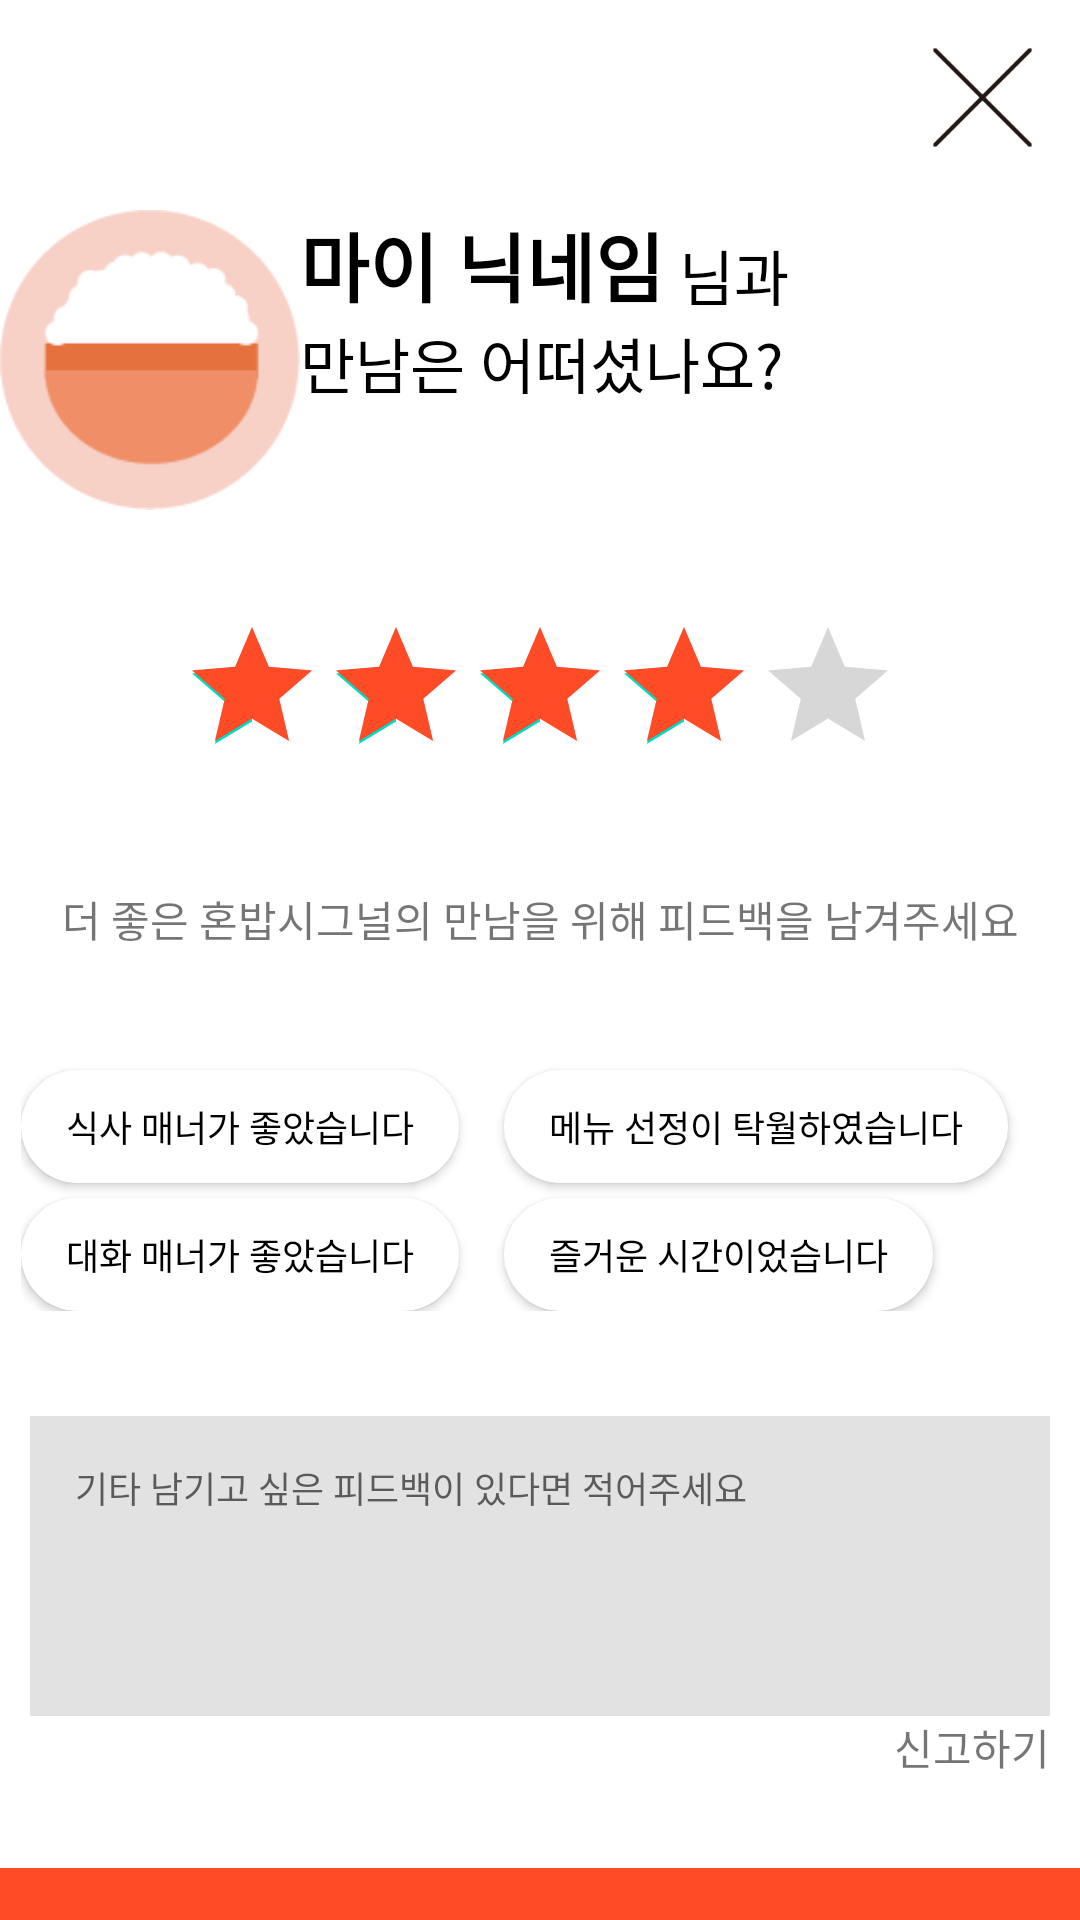

Where to tap for icons on this 1080w x 1920h app screen, as (x=x, y=y):
profile honbab: (x=150, y=360)
